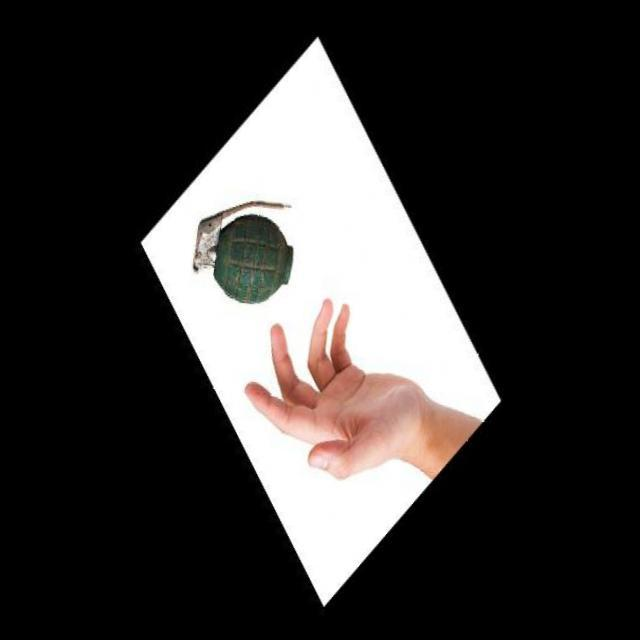grenade: (182, 182, 306, 311)
